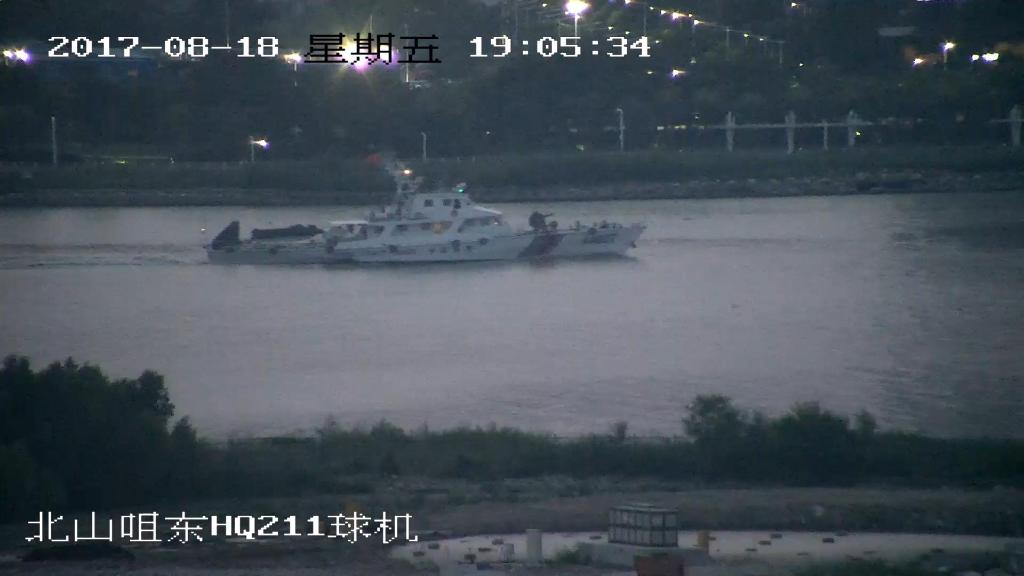Warship: (196, 145, 660, 271)
